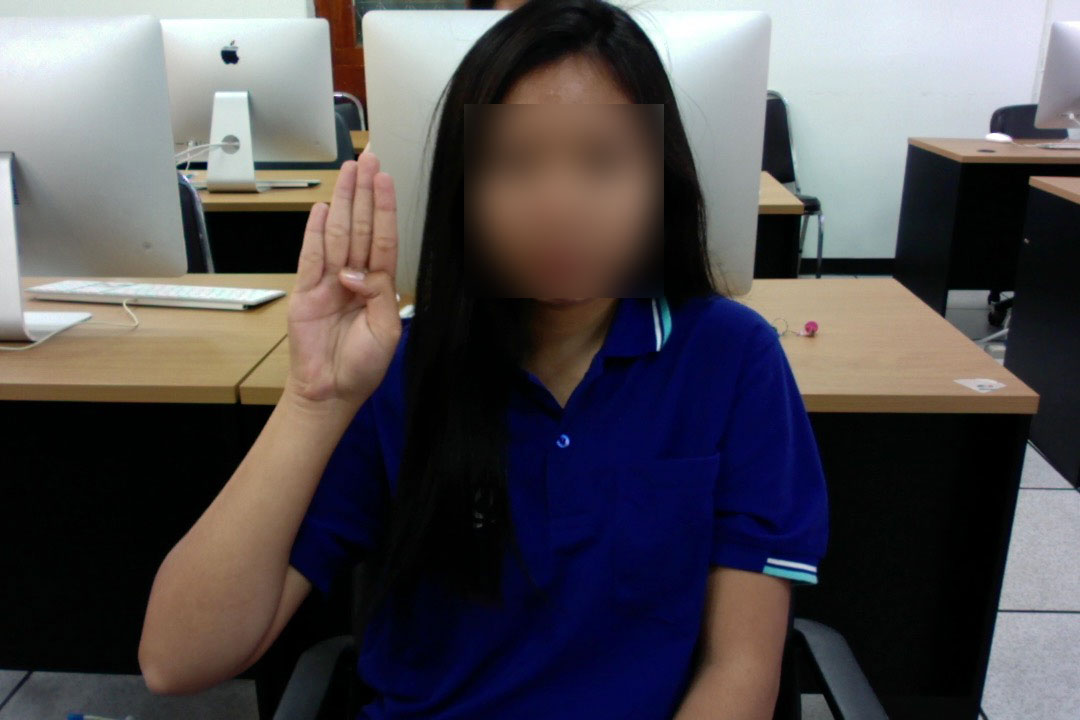bor: (282, 145, 406, 412)
